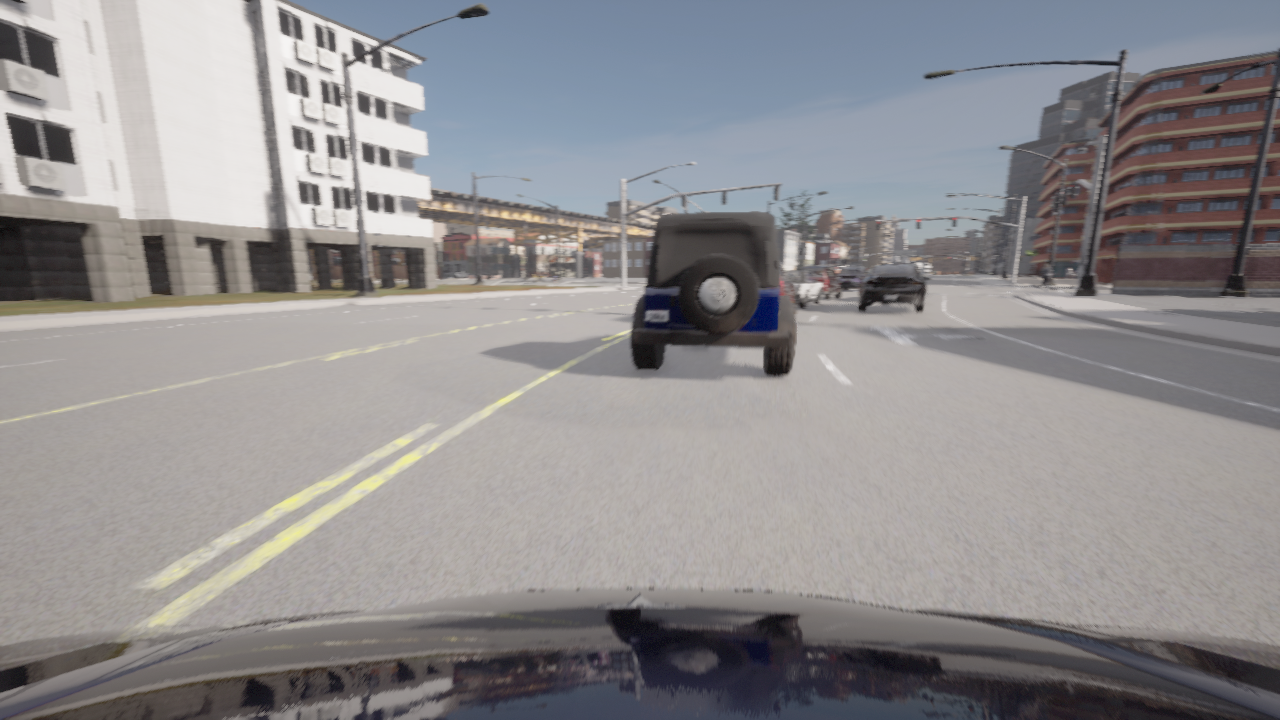cyclist: (0, 588, 1279, 719), (631, 212, 795, 375), (858, 264, 930, 312), (799, 266, 840, 299), (785, 271, 821, 307), (779, 263, 796, 313), (838, 267, 867, 289), (532, 274, 544, 282), (456, 272, 474, 277), (481, 272, 488, 278), (919, 273, 920, 275)
pedestrian: (1038, 263, 1052, 291), (553, 274, 557, 284)
